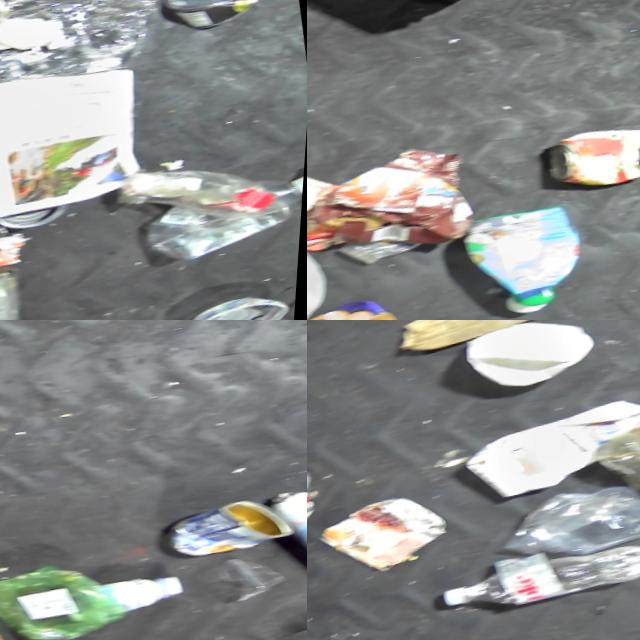can: (313, 483, 466, 587), (161, 480, 307, 566), (542, 112, 640, 196), (263, 465, 307, 588), (178, 278, 303, 320), (155, 0, 273, 35), (0, 192, 81, 234)
non_white_jug: (452, 195, 594, 319)
plastic_bottle: (112, 135, 307, 241), (439, 529, 640, 623)
